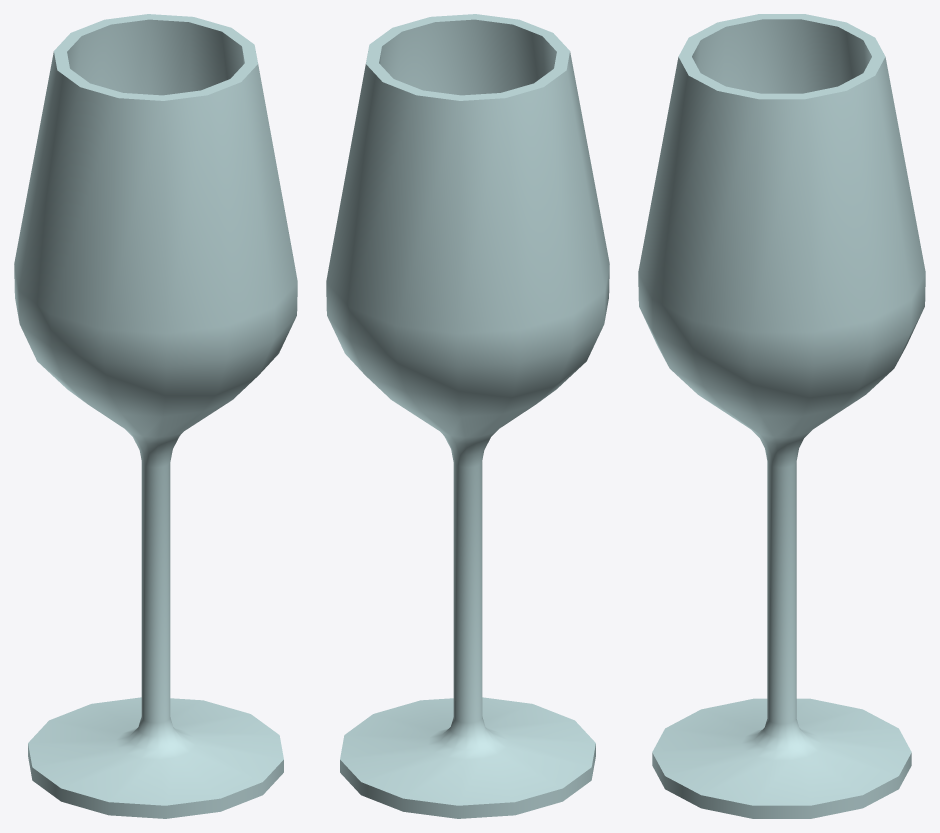
Rendered from WineGlass.fbx.
3 renders of one model, left to right at view 1: azimuth 30°, elevation 25°; view 2: azimuth 150°, elevation 25°; view 3: azimuth 270°, elevation 25°, orthographic.
Visible parts, largest first — view 1: WineGlass; view 2: WineGlass; view 3: WineGlass.
Part boxes in pixels (x1,y1,x2,y2): WineGlass: (14,14,297,818); WineGlass: (326,14,609,818); WineGlass: (638,14,925,818).
Size of the model in its own units: 0.0548 by 0.1527 by 0.0562.
